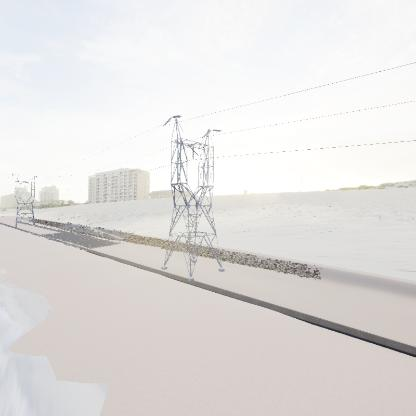tower: (159, 115, 228, 283), (10, 173, 39, 231)
